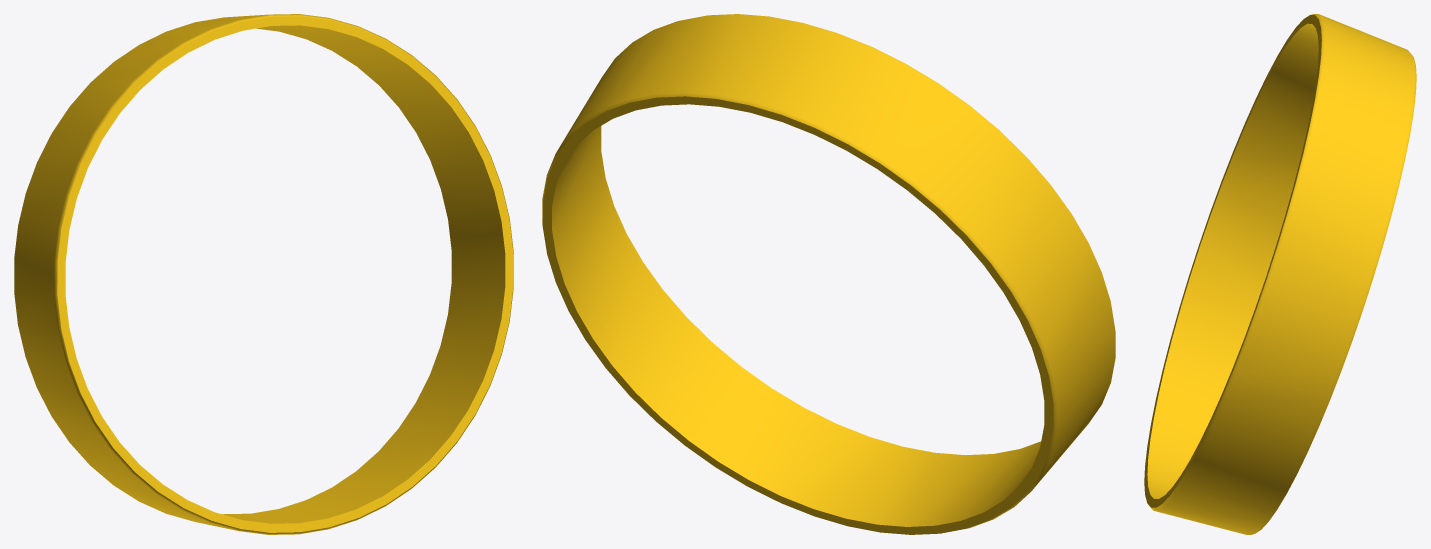
The model's file is EV_CannonStripe.fbx.
3 views of the same model, side by side, from view 1: azimuth 30°, elevation 25°; view 2: azimuth 150°, elevation 25°; view 3: azimuth 270°, elevation 25° (orthographic). The views are drawn at different scales.
Visible parts, largest first — view 1: EV_CannonStripe; view 2: EV_CannonStripe; view 3: EV_CannonStripe.
Part boxes in pixels (x1=…): EV_CannonStripe: x1=14, y1=14, x2=513, y2=534; EV_CannonStripe: x1=542, y1=14, x2=1115, y2=534; EV_CannonStripe: x1=1144, y1=14, x2=1416, y2=534.
Bounding box in the file's own units: 1.93 × 1.91 × 1.
